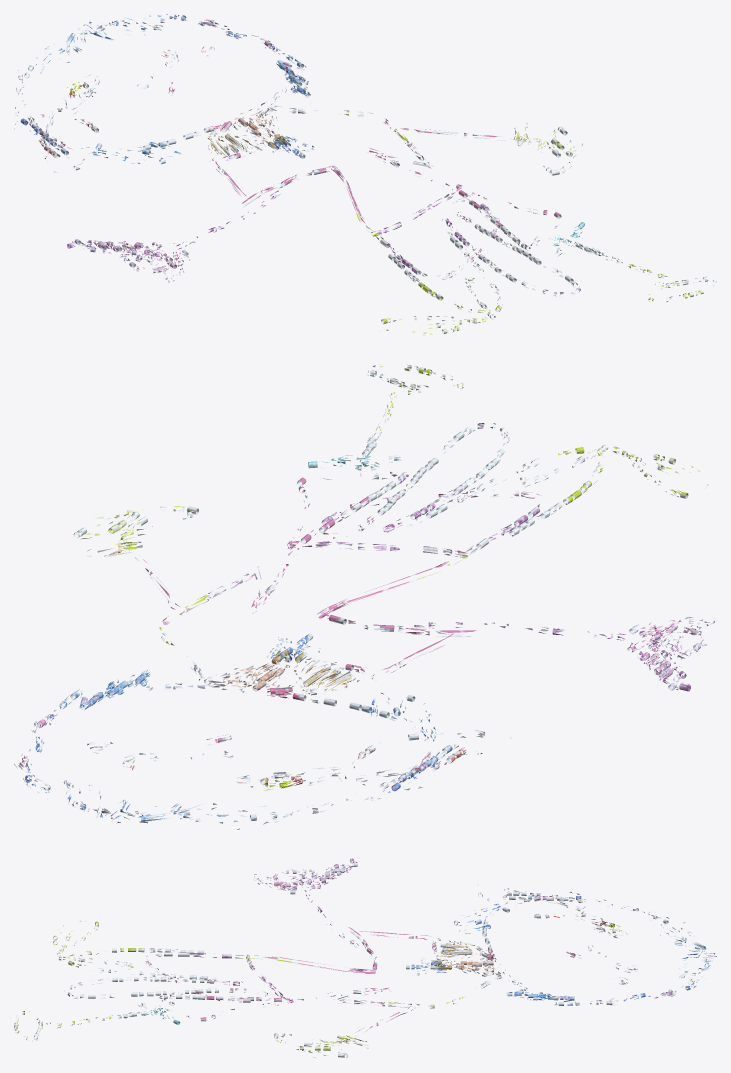
Rendered from Zhizhizhi.glb.
The picture shows the model from 3 angles, top to bottom: view 1: azimuth 30°, elevation 25°; view 2: azimuth 150°, elevation 25°; view 3: azimuth 270°, elevation 25°; orthographic projection. The views are drawn at different scales.
Parts seen in each view (by area): view 1: node_id4; view 2: node_id4; view 3: node_id4.
Part boxes in pixels (bbox=[...]): node_id4: bbox=[14, 14, 716, 335]; node_id4: bbox=[14, 364, 716, 829]; node_id4: bbox=[14, 858, 716, 1057].
Bounding box in the file's own units: 0.2545 × 0.00233 × 0.3831.
1 material, 1 textured.
